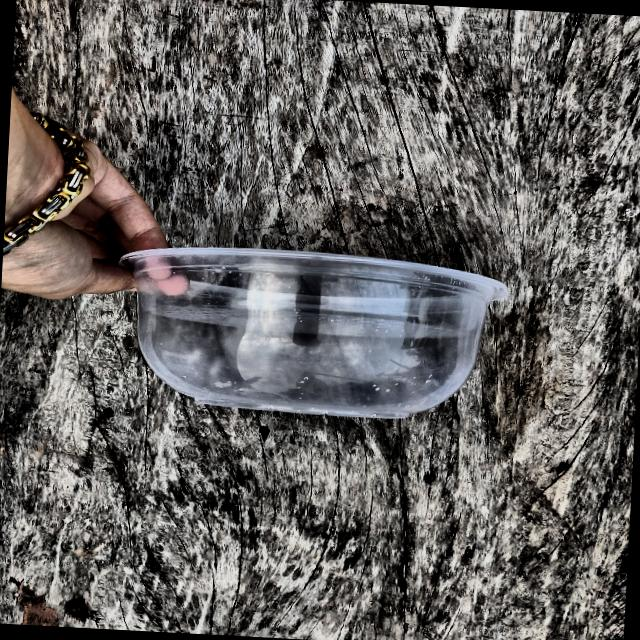plastic container: (78, 193, 535, 458)
